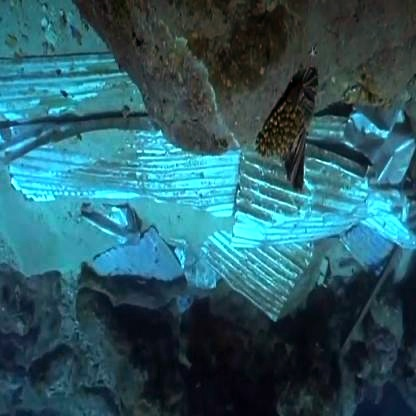metal: (19, 118, 248, 241), (227, 141, 416, 282), (199, 213, 326, 345), (2, 44, 150, 125)
